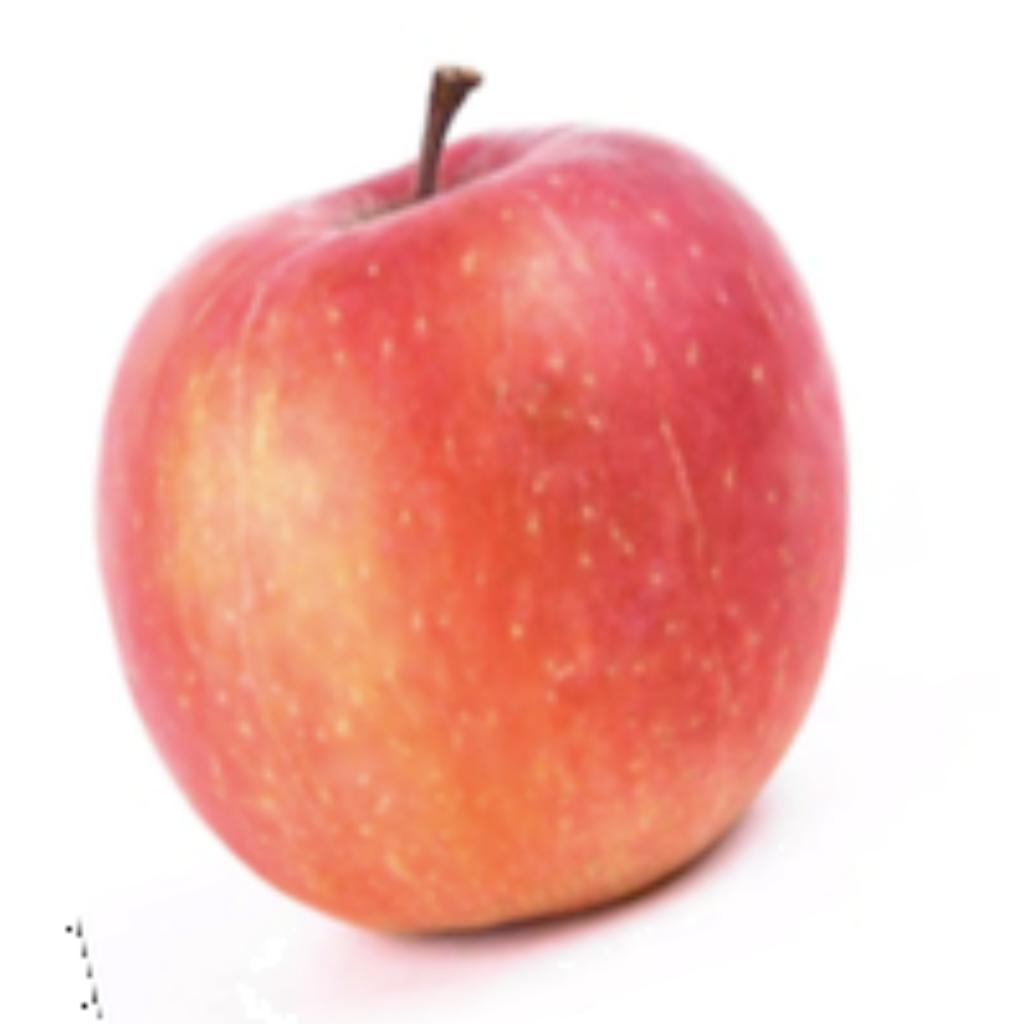apple: (87, 56, 855, 1011)
